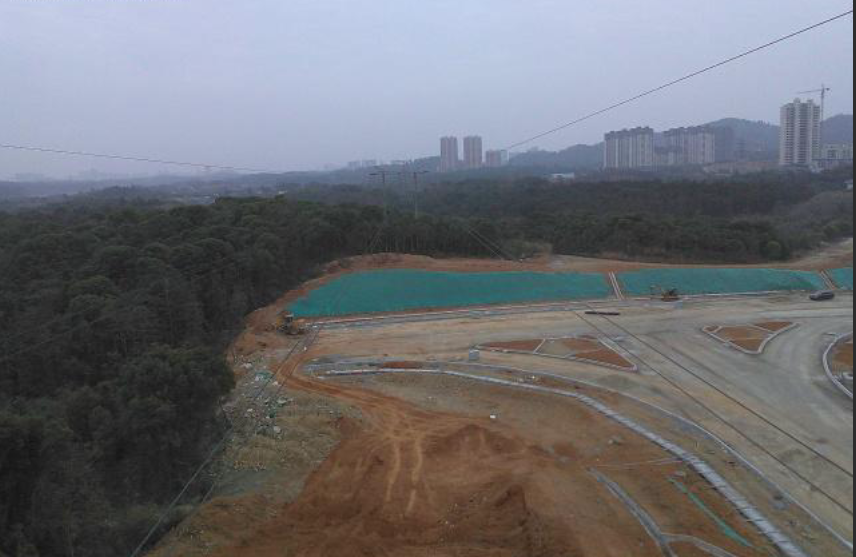绿膜: (274, 268, 617, 321), (613, 267, 830, 298), (821, 267, 853, 291)
